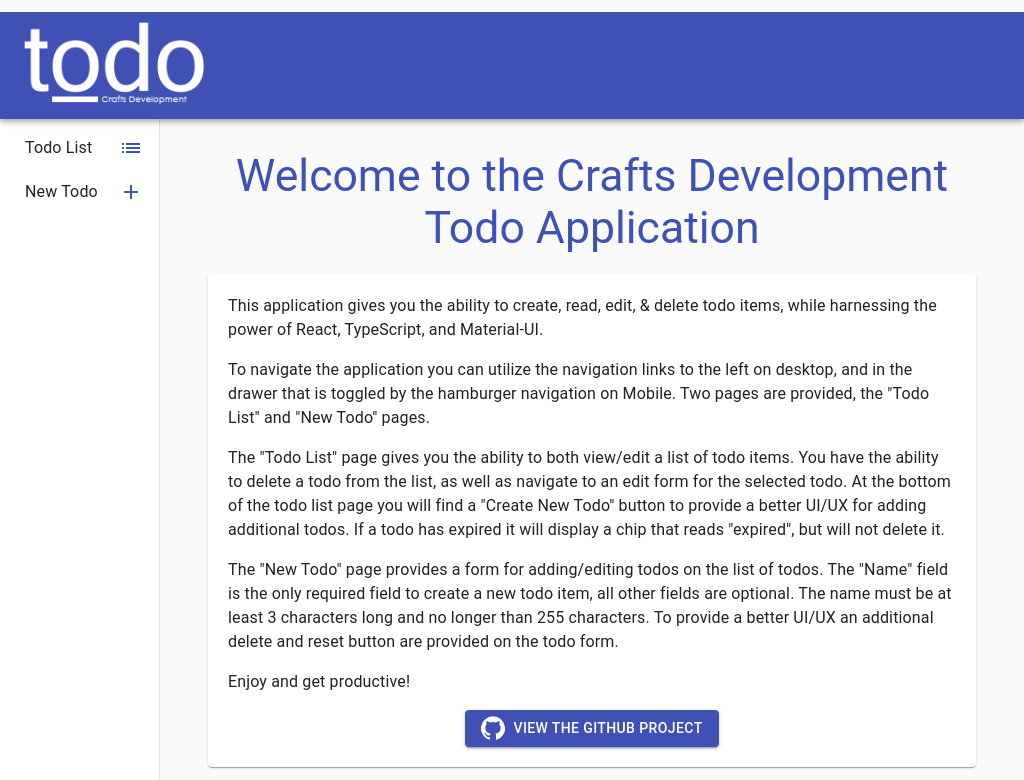
Scenario: Testing application routes › Test Edit List Page
Click the menu item with test id "editlist-menu-item" at (84, 148), box [25,136,143,160]
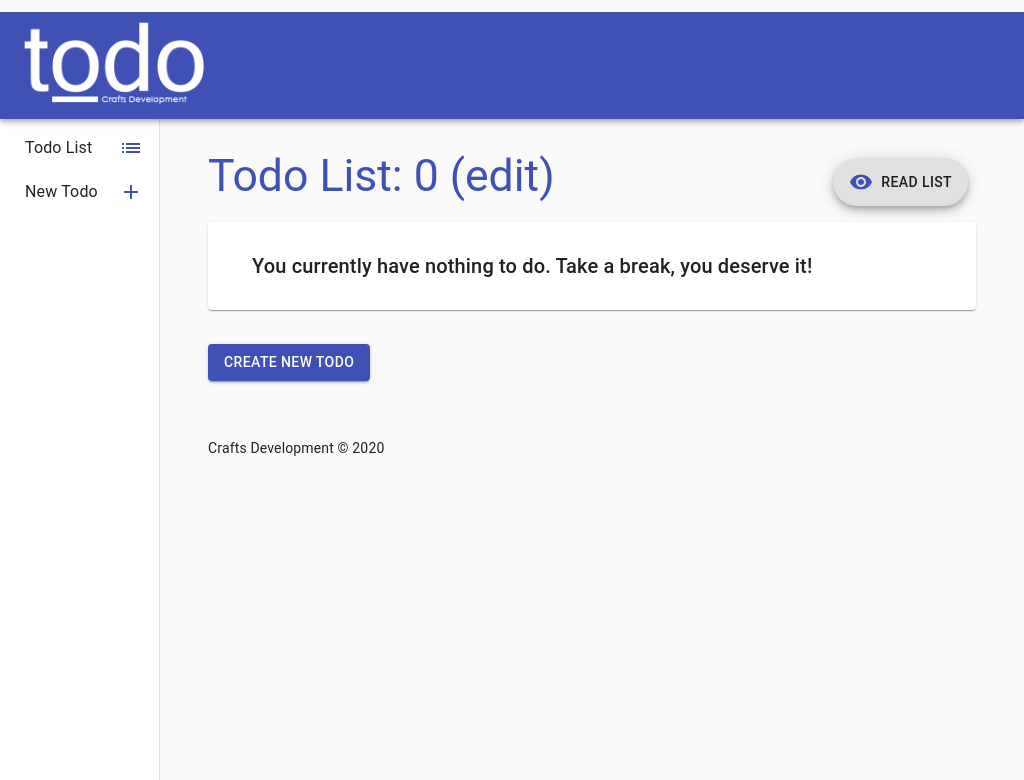
Check: the heading "Todo List: 0 (edit)" is shown, box [208,150,555,202]
Check: the text "Create New Todo" is shown, box [224,350,354,374]
